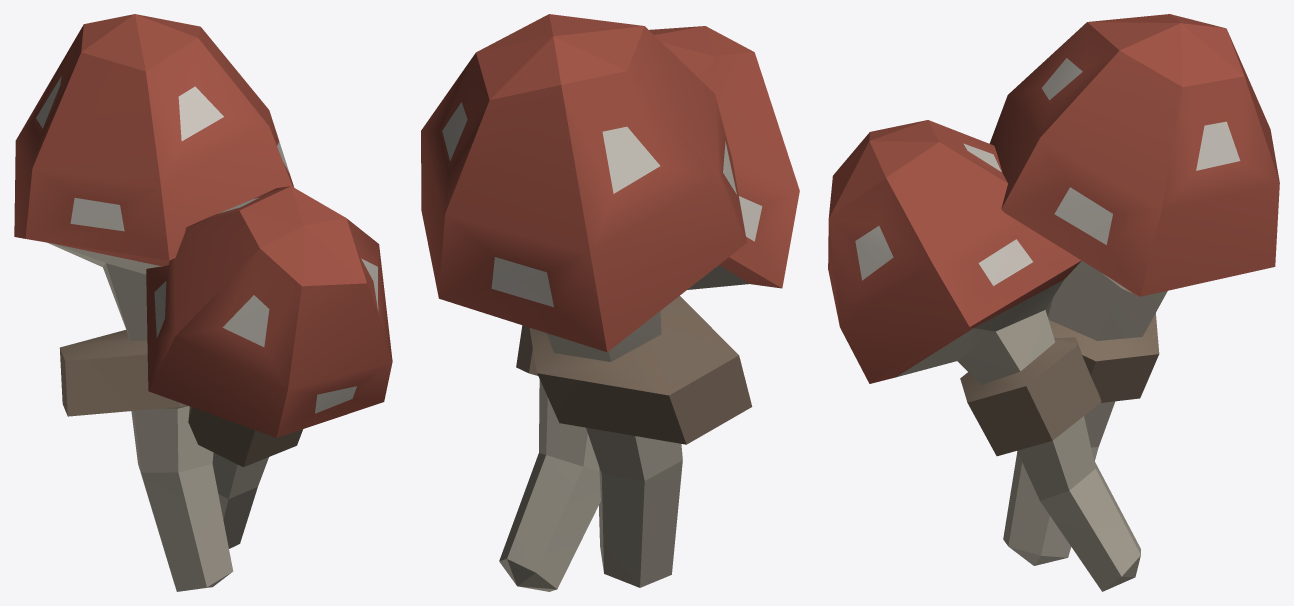
Rendered from SM_Item_Shrooms.fbx.
3 renders of one model, left to right at view 1: azimuth 30°, elevation 25°; view 2: azimuth 150°, elevation 25°; view 3: azimuth 270°, elevation 25°, orthographic. The views are drawn at different scales.
Parts seen in each view (by area): view 1: SM_Item_Shrooms; view 2: SM_Item_Shrooms; view 3: SM_Item_Shrooms.
Boxes of the visible parts, x1,y1,x2,y2 form: SM_Item_Shrooms: (14, 14, 392, 591); SM_Item_Shrooms: (421, 14, 799, 591); SM_Item_Shrooms: (828, 14, 1279, 591).
Size of the model in its own units: 9.75 by 17.17 by 12.98.
